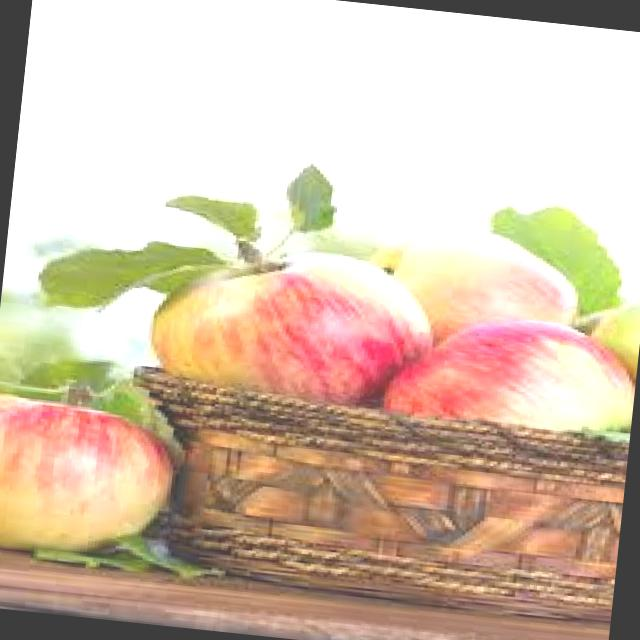Apple: (143, 232, 434, 416), (372, 304, 635, 441), (0, 390, 176, 566), (366, 221, 580, 357)
